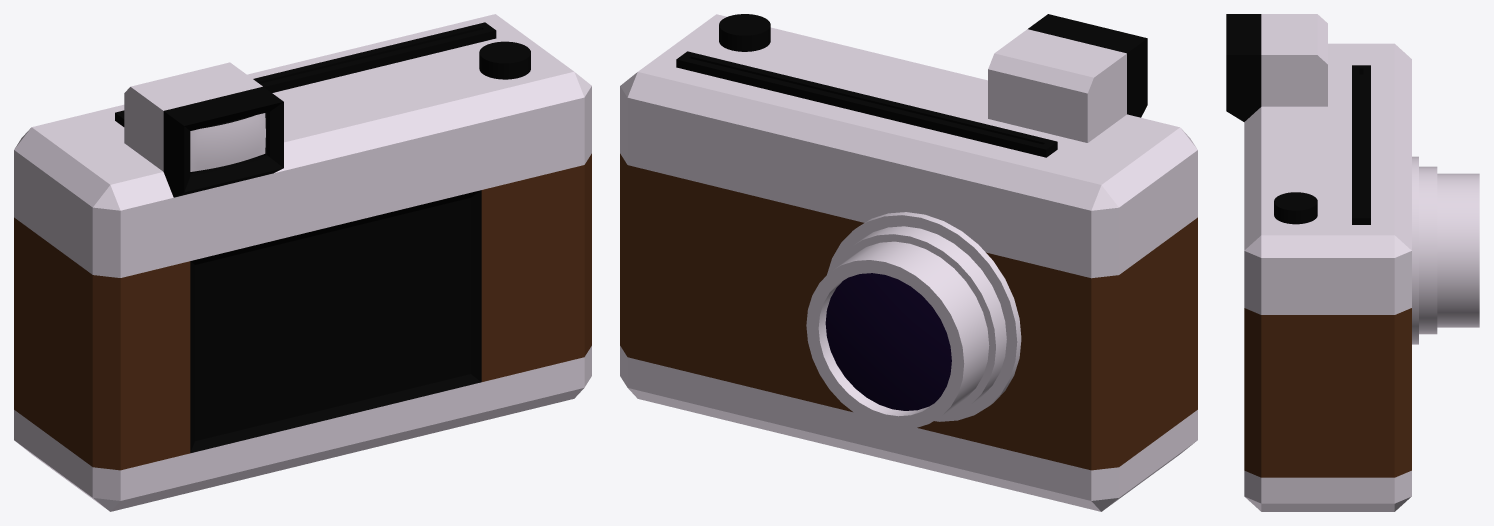
File: Camera Object.fbx
3 views of the same model, side by side, from view 1: azimuth 30°, elevation 25°; view 2: azimuth 150°, elevation 25°; view 3: azimuth 270°, elevation 25° (orthographic). The views are drawn at different scales.
Visible parts, largest first — view 1: CameraObj, Button; view 2: CameraObj, Lens, Button; view 3: CameraObj, Lens, Button.
Boxes of the visible parts, <box> form: CameraObj: <box>14,14,591,511</box>; Button: <box>479,41,530,79</box>; CameraObj: <box>620,14,1197,511</box>; Lens: <box>806,212,1021,429</box>; Button: <box>719,14,770,51</box>; CameraObj: <box>1226,14,1411,511</box>; Lens: <box>1412,156,1479,344</box>; Button: <box>1274,192,1317,224</box>.
Size of the model in its own units: 15.97 by 11.86 by 8.29.
